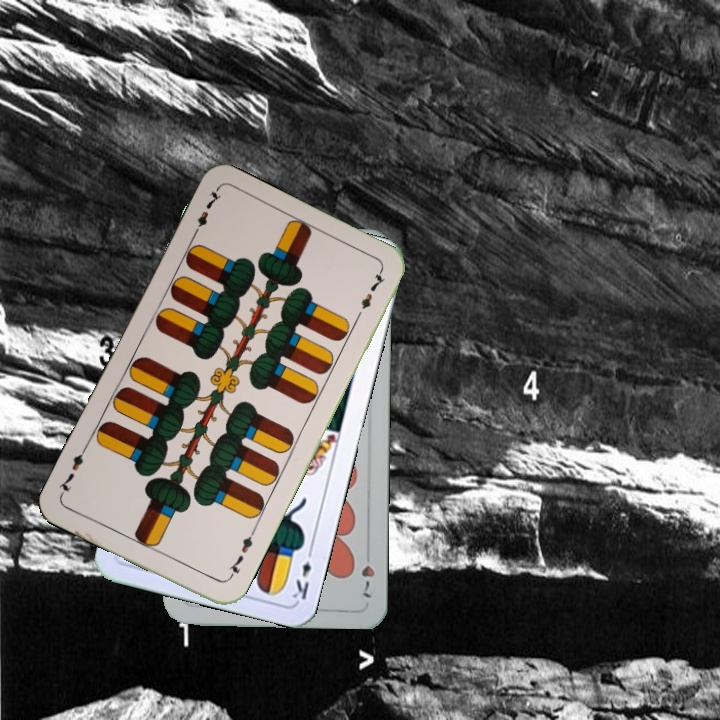E7: (188, 186, 224, 241), (223, 528, 257, 583)
EK: (288, 544, 316, 603)
H7: (358, 562, 378, 603)
